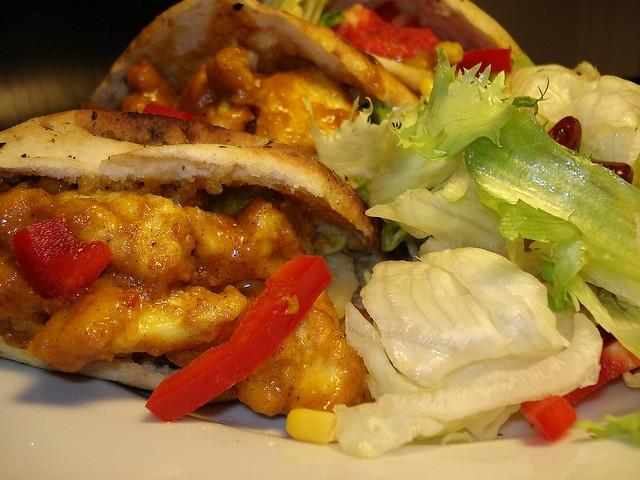bell pepper: (144, 255, 333, 424), (10, 218, 114, 298), (330, 4, 440, 60), (520, 395, 576, 441), (457, 48, 513, 78)
corn: (286, 408, 338, 446), (436, 41, 464, 66), (418, 77, 434, 97)
lettuce: (464, 107, 640, 360), (360, 247, 571, 389), (500, 61, 640, 190), (365, 177, 509, 260), (368, 125, 463, 209), (302, 96, 388, 179), (257, 0, 346, 30), (572, 410, 640, 447)
